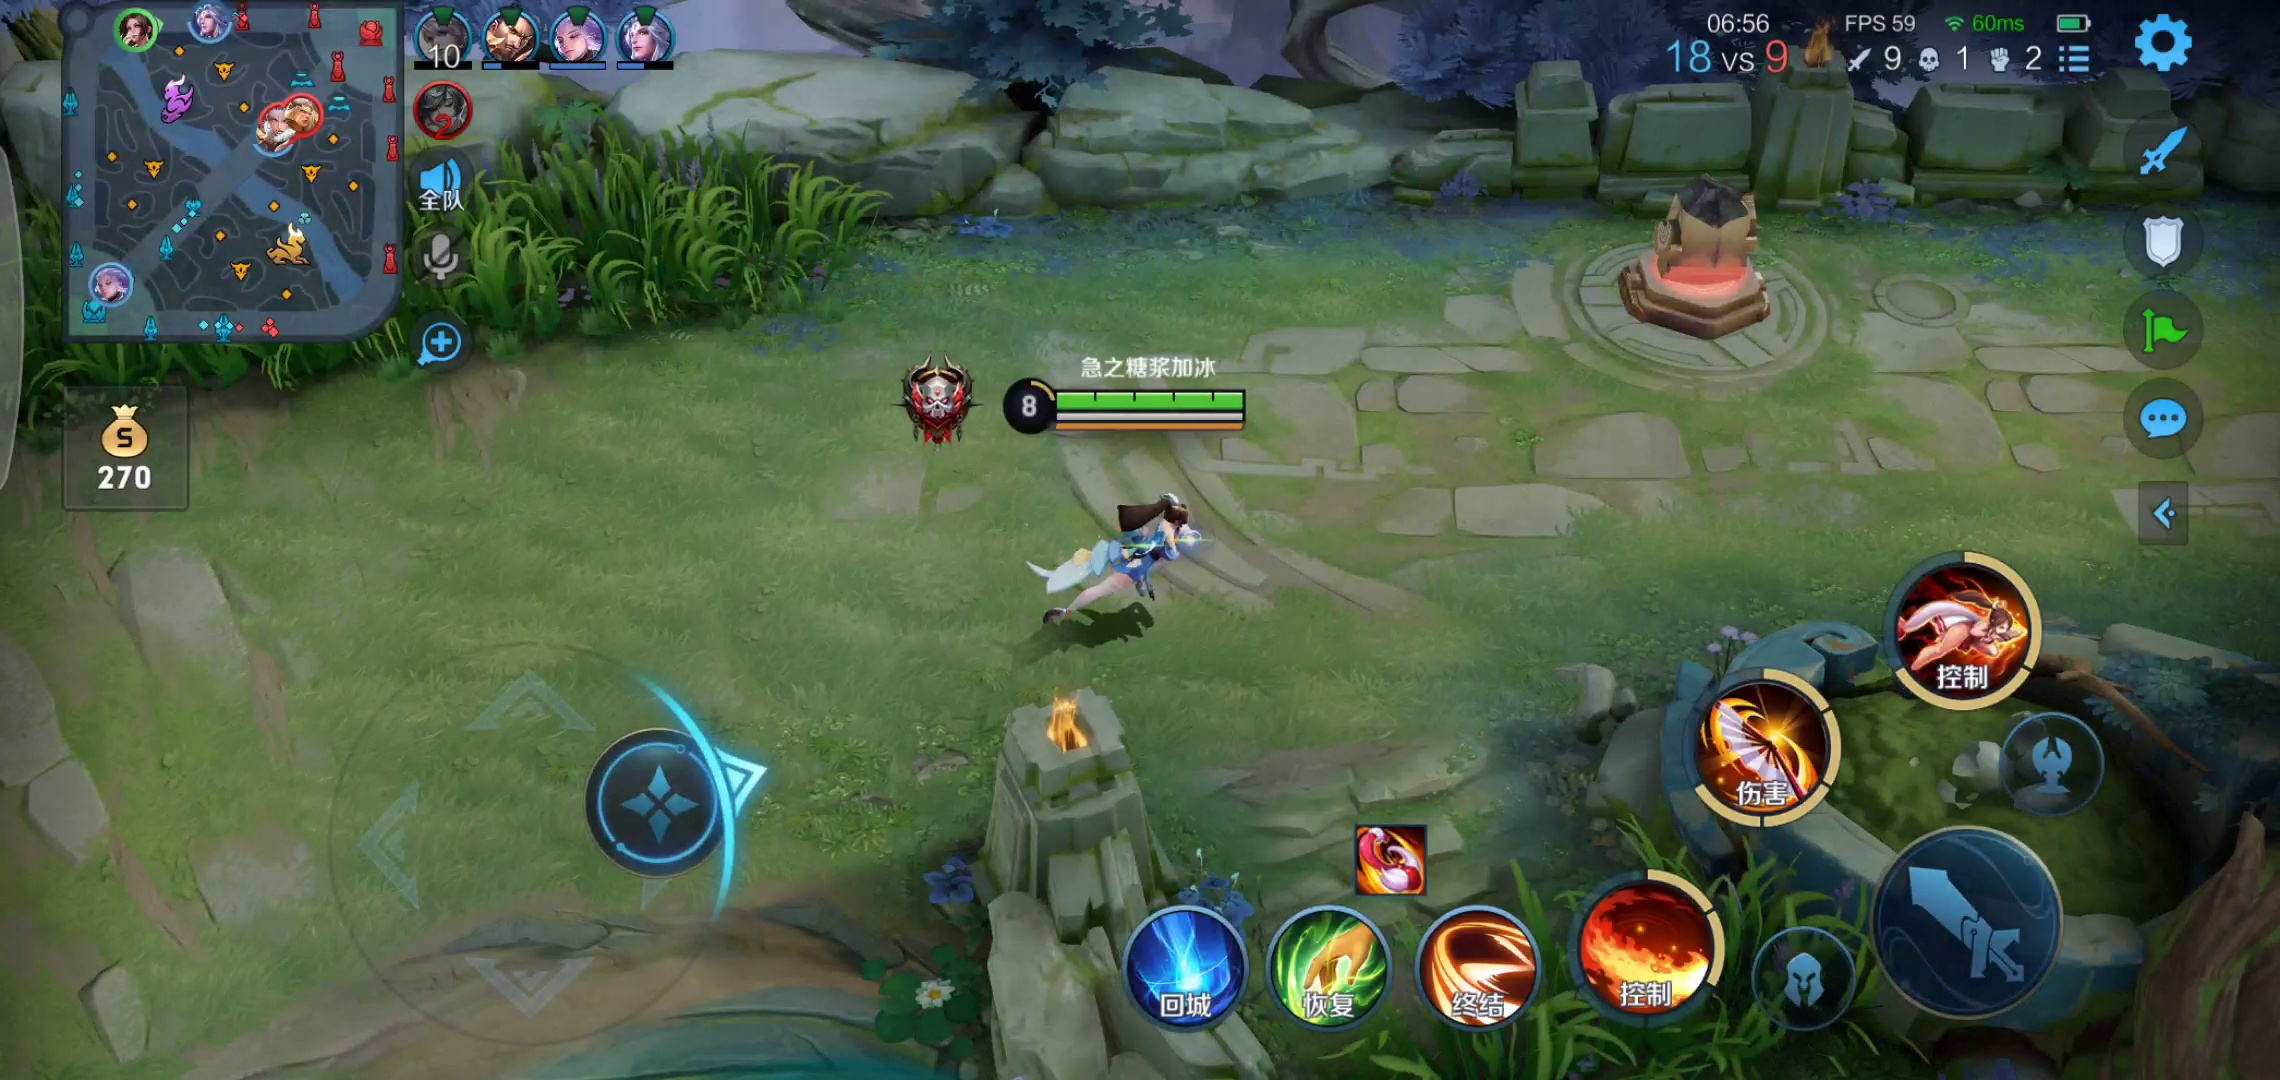grass: (1489, 834, 1873, 1080), (443, 145, 870, 323)
hero: (1034, 470, 1211, 637)
tower: (1614, 158, 1789, 340)
